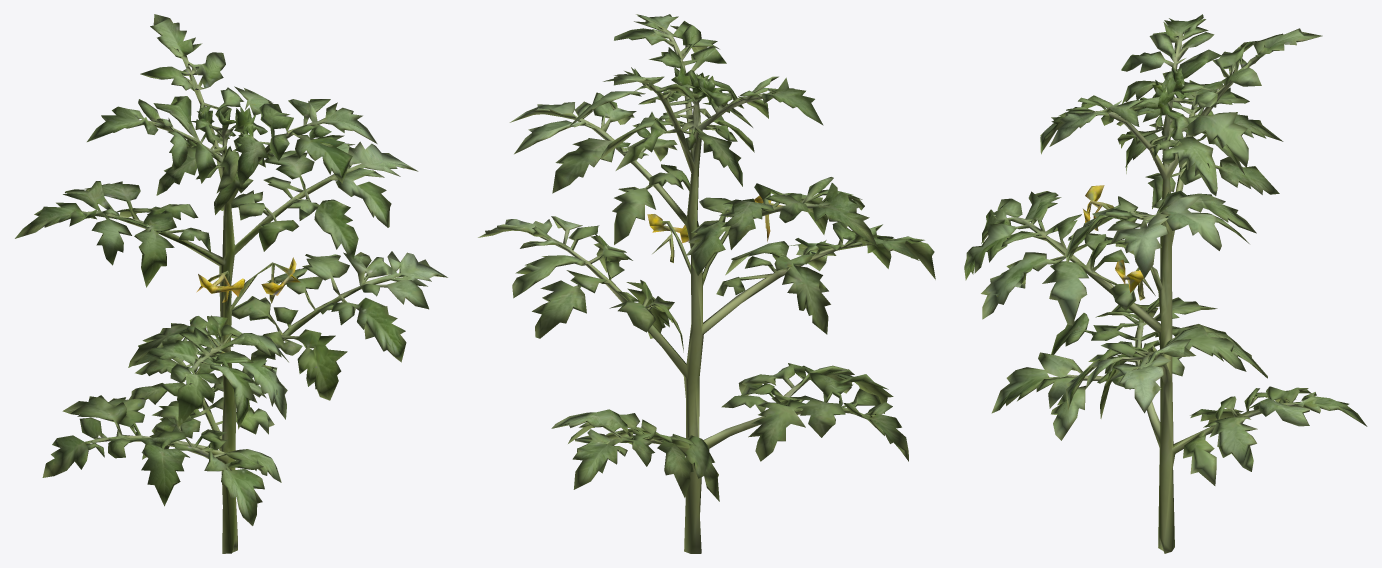
File: flowering.glb
3 views of the same model, side by side, from view 1: azimuth 30°, elevation 25°; view 2: azimuth 150°, elevation 25°; view 3: azimuth 270°, elevation 25° (orthographic). The views are drawn at different scales.
Visible parts, largest first — view 1: tripo_node_bfc5d5f0-ebc4-4549-821e-c14b476b35fe; view 2: tripo_node_bfc5d5f0-ebc4-4549-821e-c14b476b35fe; view 3: tripo_node_bfc5d5f0-ebc4-4549-821e-c14b476b35fe.
Part boxes in pixels (x1,y1,x2,y2): tripo_node_bfc5d5f0-ebc4-4549-821e-c14b476b35fe: [15, 14, 447, 553]; tripo_node_bfc5d5f0-ebc4-4549-821e-c14b476b35fe: [478, 14, 935, 553]; tripo_node_bfc5d5f0-ebc4-4549-821e-c14b476b35fe: [964, 14, 1367, 553].
Bounding box in the file's own units: 0.8656 × 0.9976 × 0.7094.
1 material, 1 textured.
